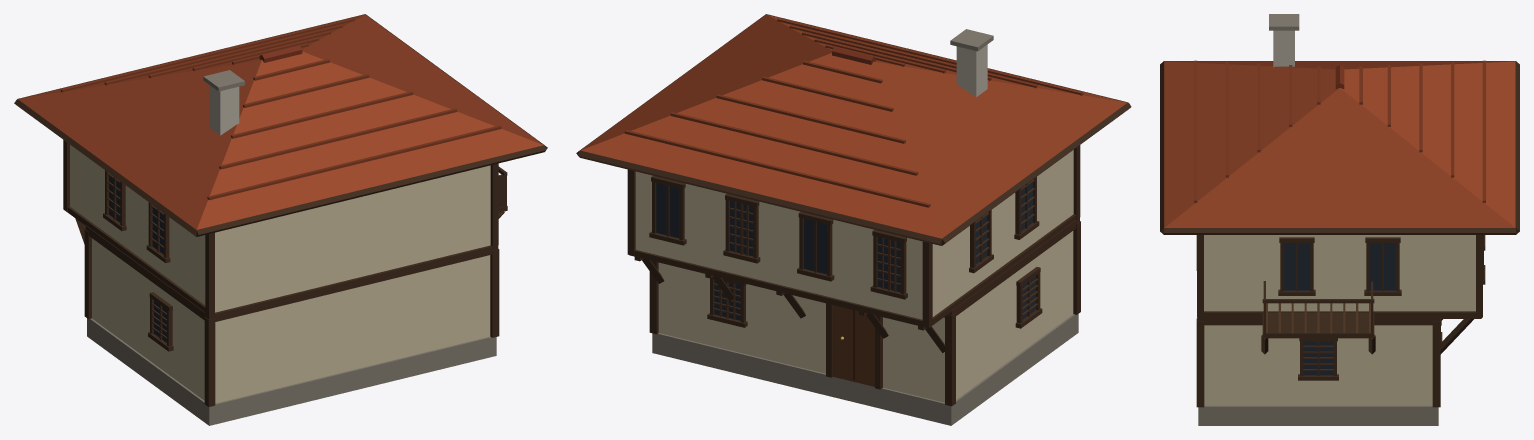
3 renders of one model, left to right at view 1: azimuth 30°, elevation 25°; view 2: azimuth 150°, elevation 25°; view 3: azimuth 270°, elevation 25°, orthographic. The views are drawn at different scales.
Visible parts, largest first — view 1: ev; view 2: ev; view 3: ev.
Boxes of the visible parts, <box> form: ev: <box>14,14,547,425</box>; ev: <box>576,14,1131,425</box>; ev: <box>1160,14,1519,425</box>.
Size of the model in its own units: 9.64 by 7.6 by 8.38.
